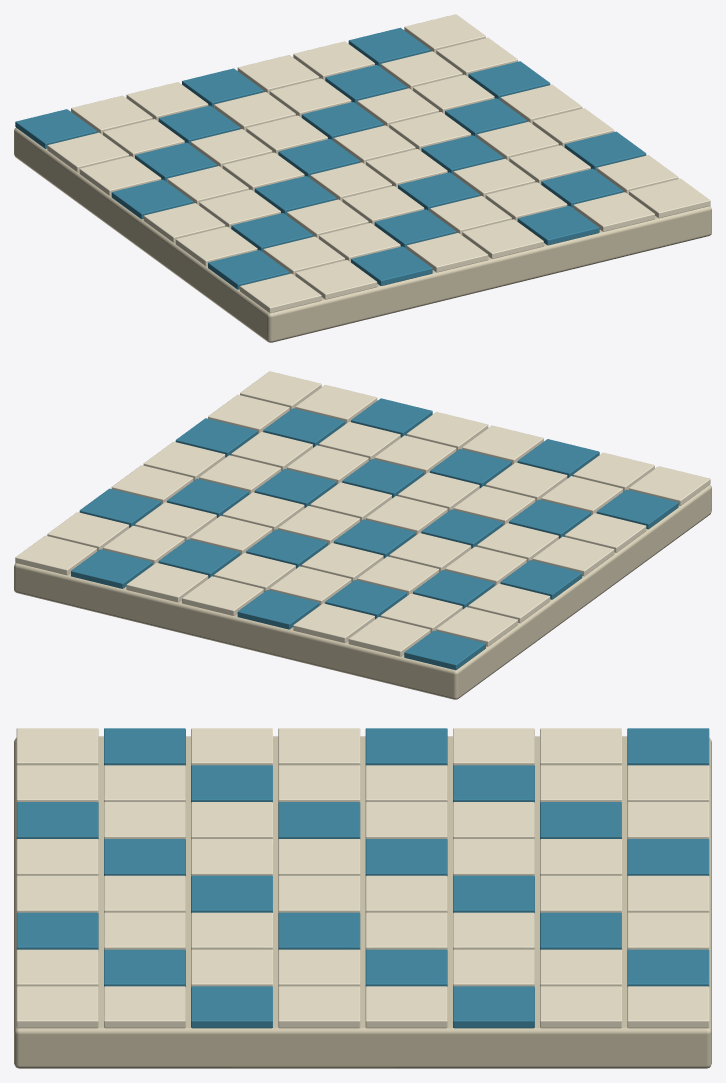
The model's file is fantasy-bathhouse-and-thermal-sanctuary-fantasy-bathho-c86a2800__29434.glb.
3 views of the same model, one above another, from view 1: azimuth 30°, elevation 25°; view 2: azimuth 150°, elevation 25°; view 3: azimuth 270°, elevation 25° (orthographic). The views are drawn at different scales.
Parts seen in each view (by area): view 1: fantasy-bathhouse-and-thermal-sanctuary-tiled-floor-panel; view 2: fantasy-bathhouse-and-thermal-sanctuary-tiled-floor-panel; view 3: fantasy-bathhouse-and-thermal-sanctuary-tiled-floor-panel.
Part boxes in pixels (box(x1,y1,x2,y2)): fantasy-bathhouse-and-thermal-sanctuary-tiled-floor-panel: box(14, 14, 711, 342); fantasy-bathhouse-and-thermal-sanctuary-tiled-floor-panel: box(14, 371, 711, 699); fantasy-bathhouse-and-thermal-sanctuary-tiled-floor-panel: box(14, 728, 711, 1068).
Bounding box in the file's own units: 2 × 0.1549 × 2.
